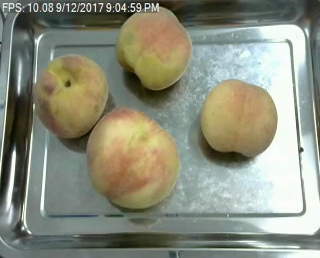Peach: (86, 106, 181, 209), (32, 52, 109, 139), (116, 7, 190, 89), (199, 78, 276, 155)
